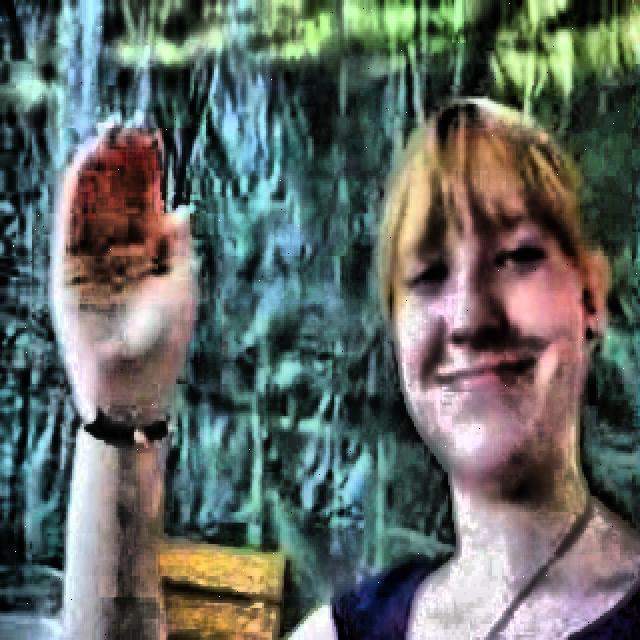T: (35, 93, 640, 635)
